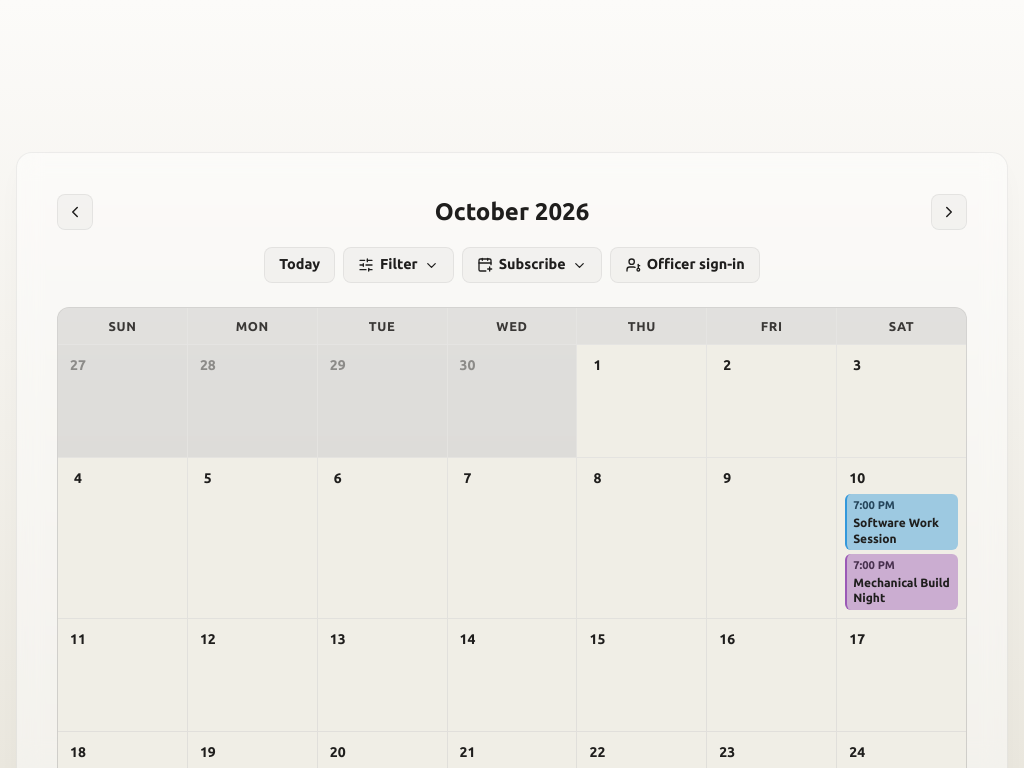
Test case: Calendar channel filter › hides events from an unchecked channel
Click the button "Filter" at (398, 265), box left=343, top=247, right=454, bottom=283
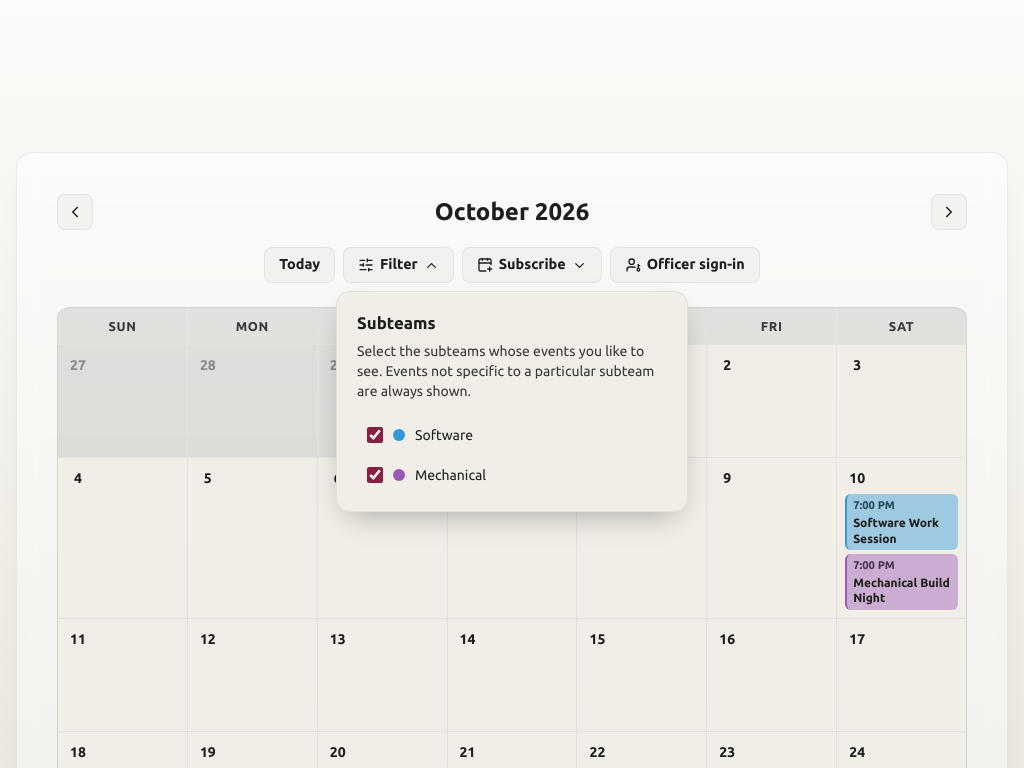
Click the checkbox labelled "Software" at (375, 435), box left=367, top=427, right=383, bottom=443
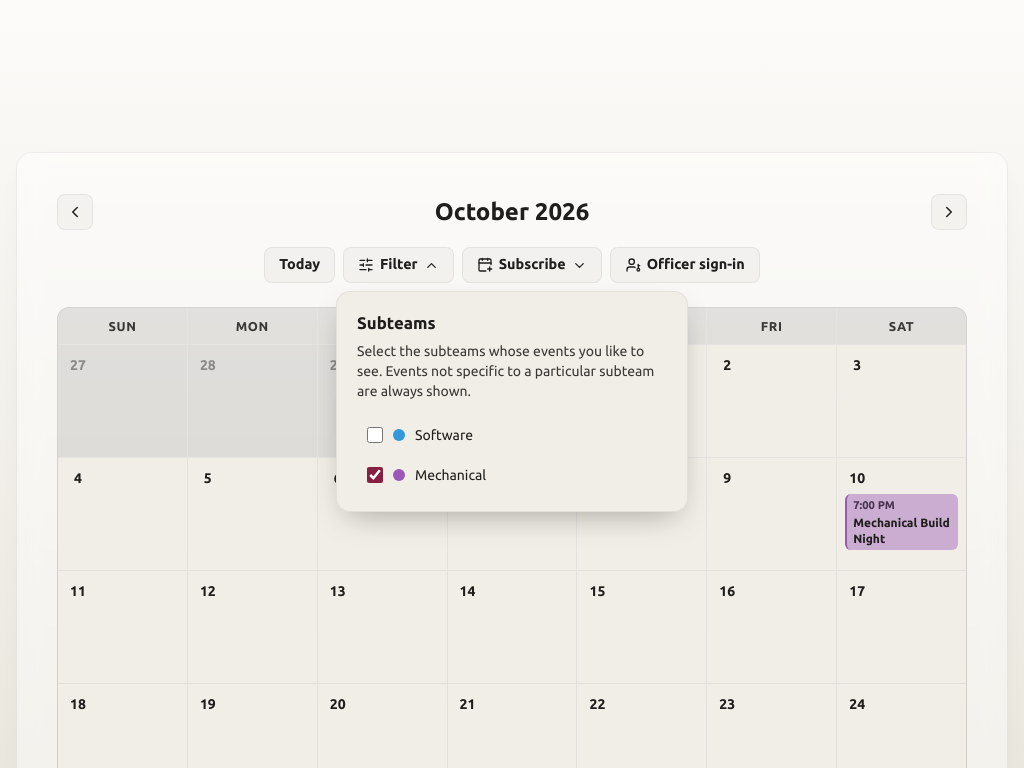
Expected: the button "7:00 PM Mechanical Build Night" is shown, left=845, top=494, right=958, bottom=550
Expected: the button "Software Work Session" is gone
